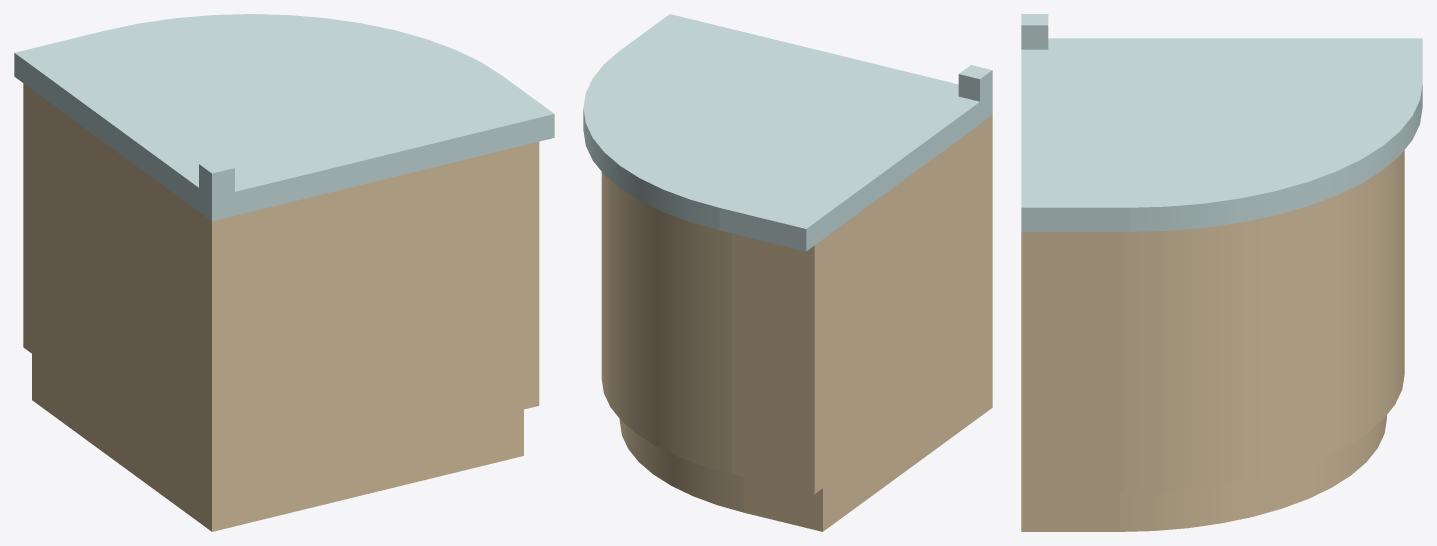
File: kitchenCabinetCornerRound.glb
3 renders of one model, left to right at view 1: azimuth 30°, elevation 25°; view 2: azimuth 150°, elevation 25°; view 3: azimuth 270°, elevation 25°, orthographic. The views are drawn at different scales.
Parts seen in each view (by area): view 1: kitchenCabinetCornerRound; view 2: kitchenCabinetCornerRound; view 3: kitchenCabinetCornerRound.
Boxes of the visible parts, left/top/right/bottom form: kitchenCabinetCornerRound: left=14, top=14, right=554, bottom=531; kitchenCabinetCornerRound: left=583, top=14, right=992, bottom=531; kitchenCabinetCornerRound: left=1021, top=14, right=1422, bottom=531.
Bounding box in the file's own units: 4.5 × 4.5 × 4.5.
